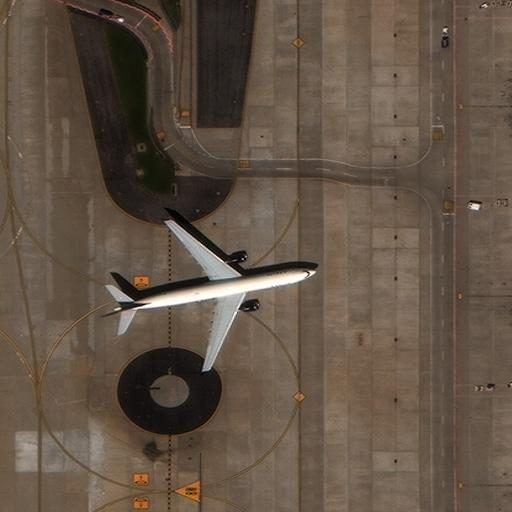Large Civil Transport: (97, 218, 320, 371)
